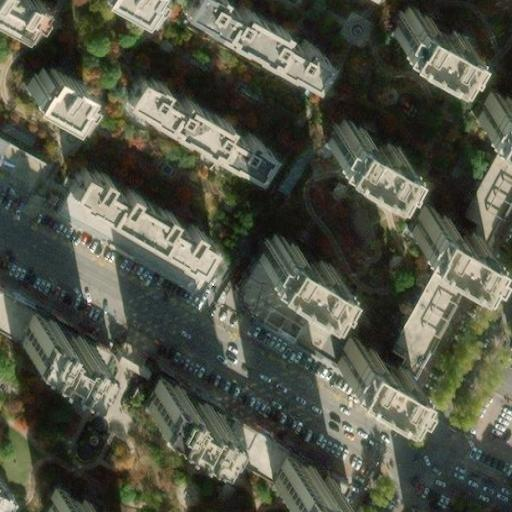building: (57, 192, 213, 301), (126, 68, 280, 175), (219, 255, 346, 369), (74, 174, 217, 268), (177, 0, 326, 89), (209, 423, 340, 491), (384, 267, 464, 375), (330, 342, 417, 416), (256, 244, 343, 316), (387, 7, 474, 77), (323, 123, 406, 193), (405, 212, 488, 280), (19, 321, 100, 388), (457, 153, 512, 245), (149, 388, 222, 451), (24, 75, 93, 139), (268, 458, 346, 512), (469, 92, 512, 151), (85, 360, 115, 394), (38, 491, 82, 512), (0, 479, 17, 512), (62, 340, 74, 349)
